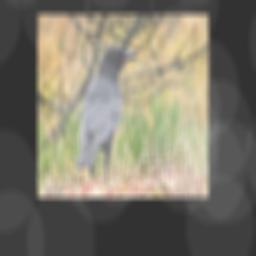Crow: (75, 45, 137, 187)
